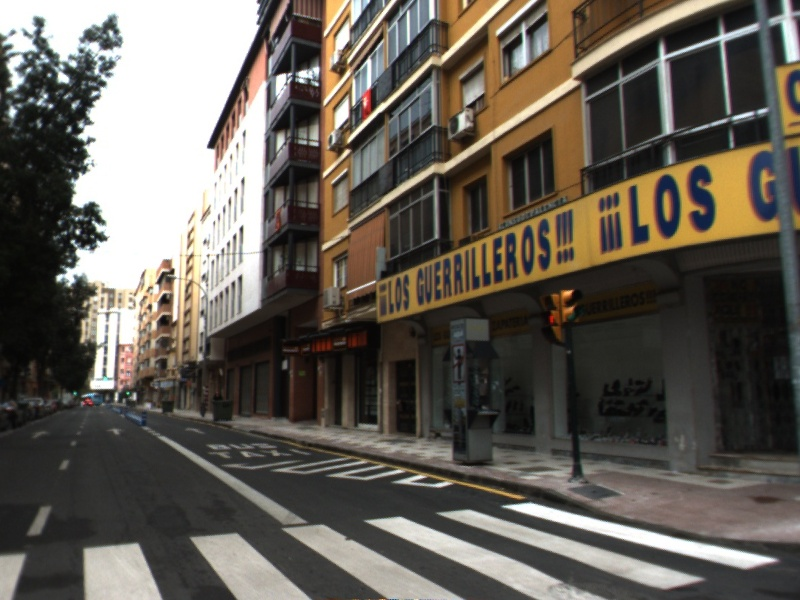STRAIGHT: (28, 428, 53, 441), (183, 425, 210, 437), (104, 426, 128, 438)
